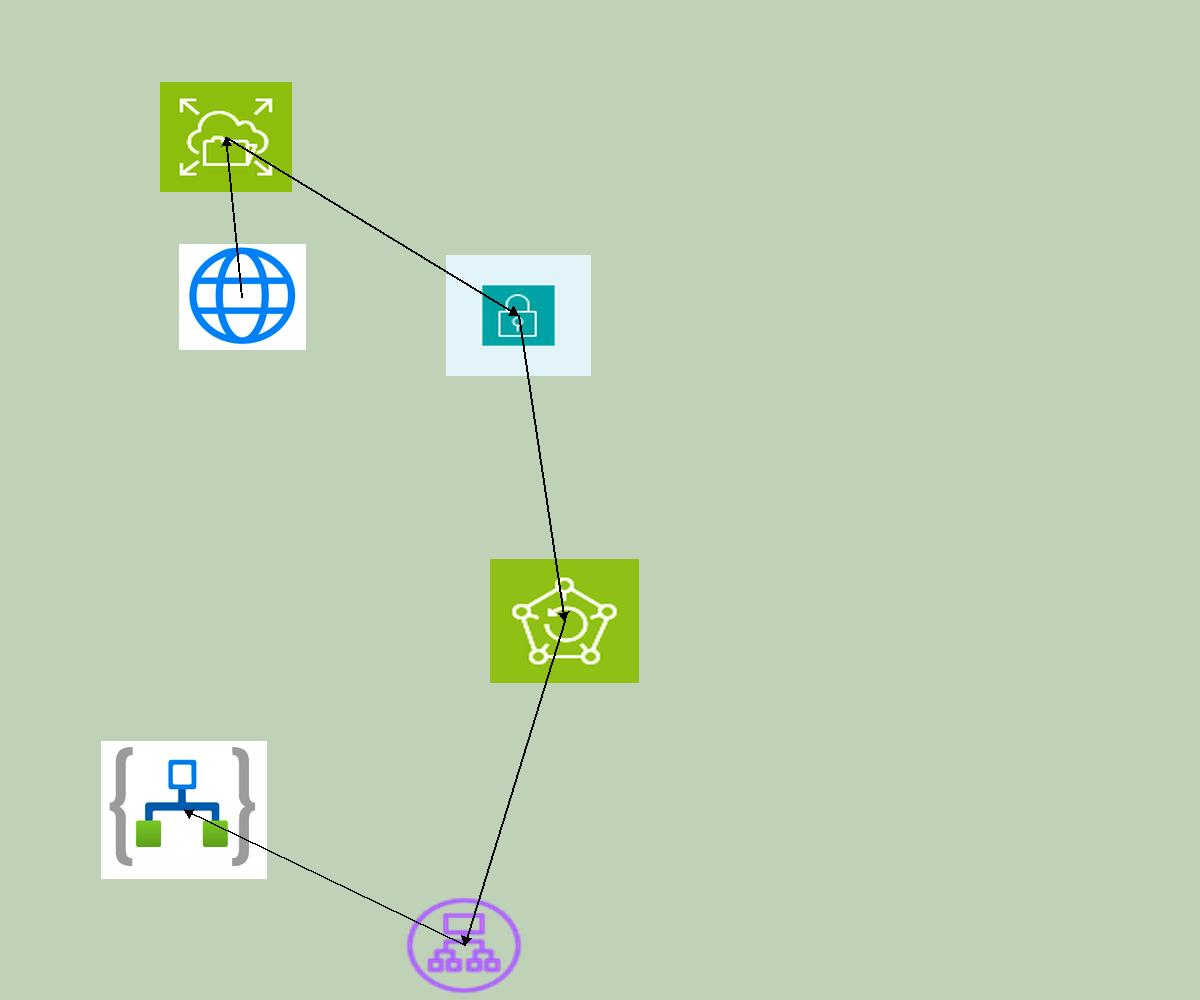AWS-Backup: (490, 559, 639, 683)
AWS-EFS: (160, 82, 292, 192)
AWS-Private-subnet: (446, 255, 591, 376)
AWS-Res_Elastic-Load-Balancing_Application-Load-Balancer: (402, 894, 526, 997)
Azure_http: (179, 244, 306, 350)
Azure_integration-204-Logic-Apps: (101, 741, 267, 879)
